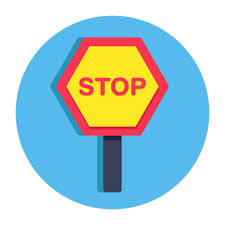stop sign: (57, 37, 169, 137)
